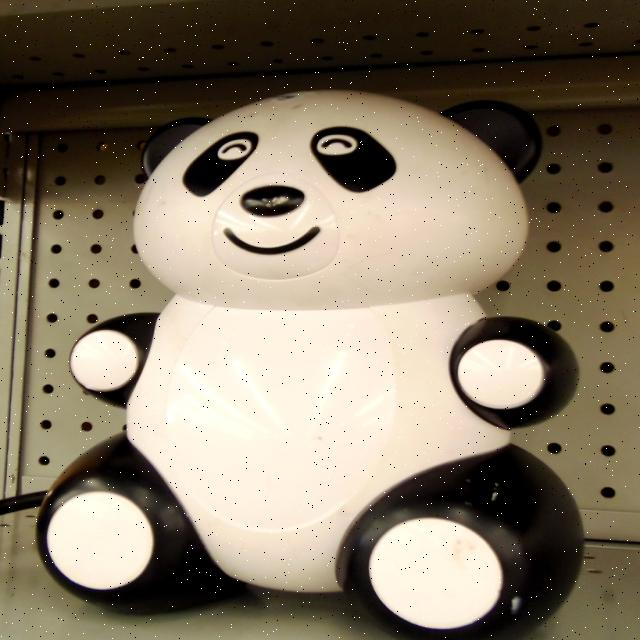panda: (34, 87, 590, 637)
